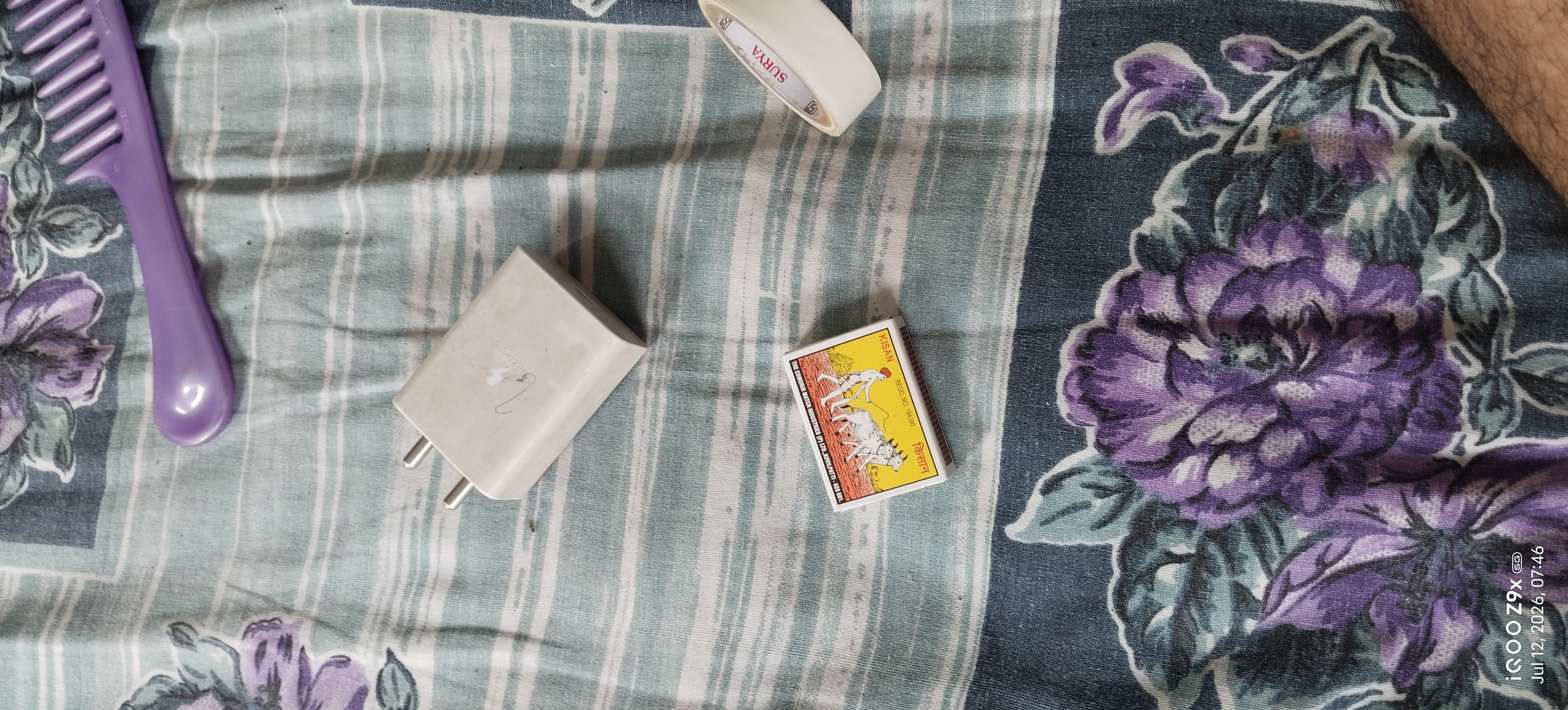charger: (367, 225, 668, 528)
matchbox: (775, 308, 959, 528)
tape_roll: (666, 0, 931, 175)
